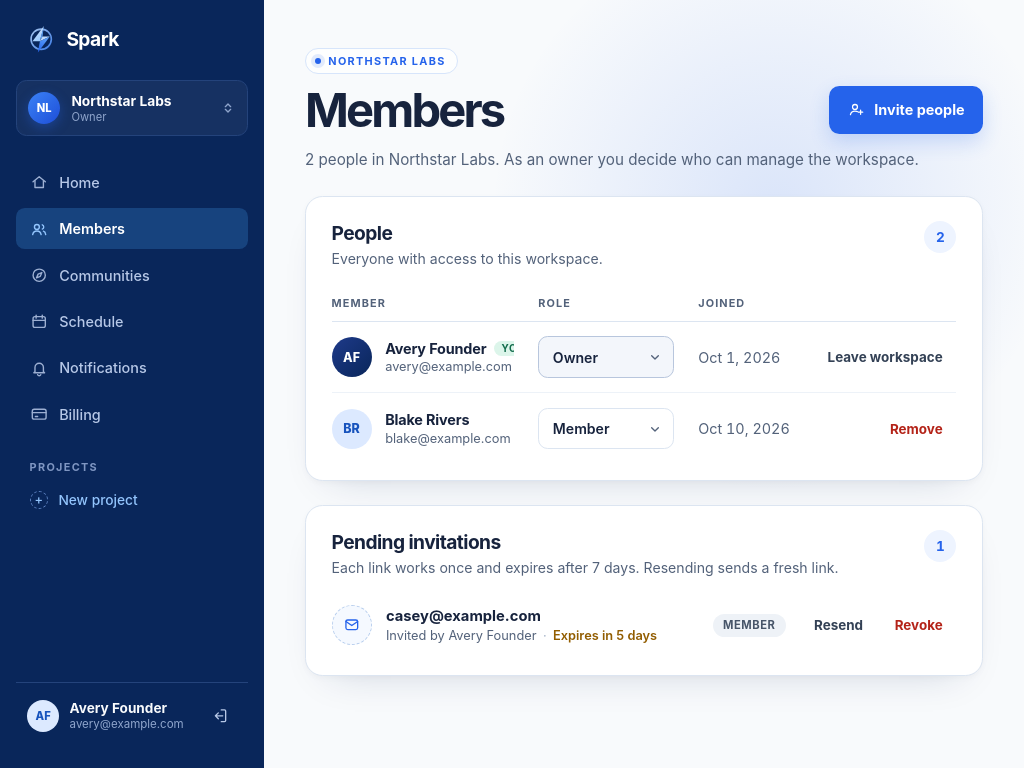
members page › explains that the last owner cannot be demoted
Step 1. Select "Member" in the dropdown named "Role for Avery Founder" → (606, 357), box [538,336,674,378]
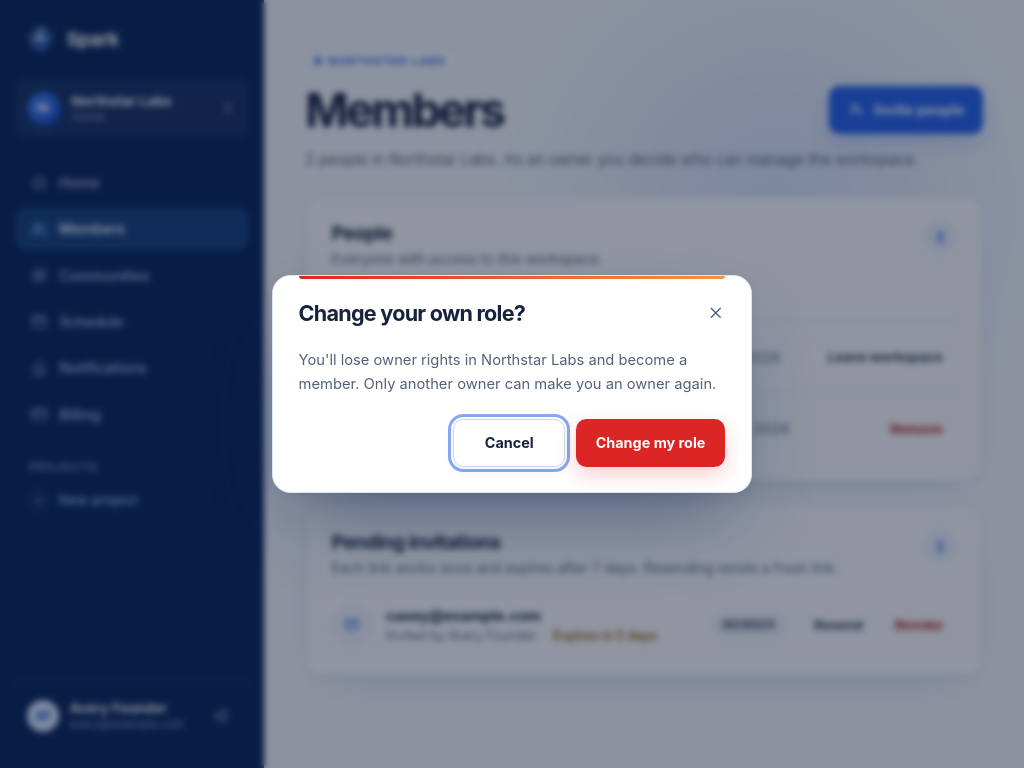
Step 2. Click the button "Change my role" → (650, 443), box [576,419,725,467]
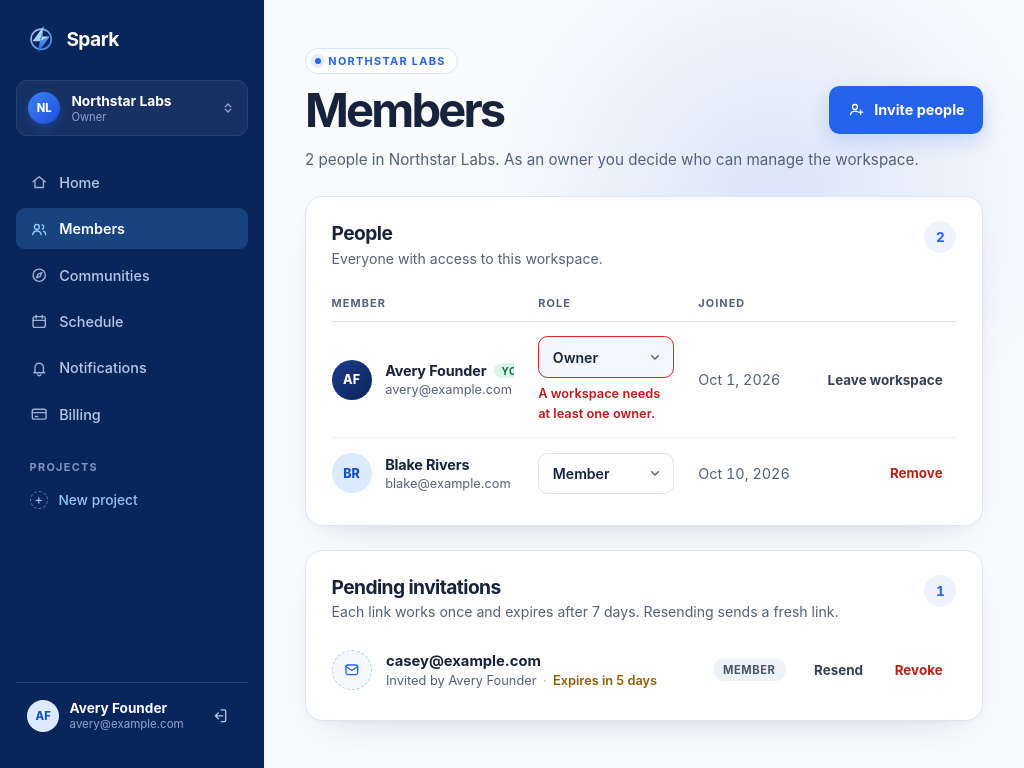
Now the text "A workspace needs at least one owner." is shown, box [538,384,674,423]
